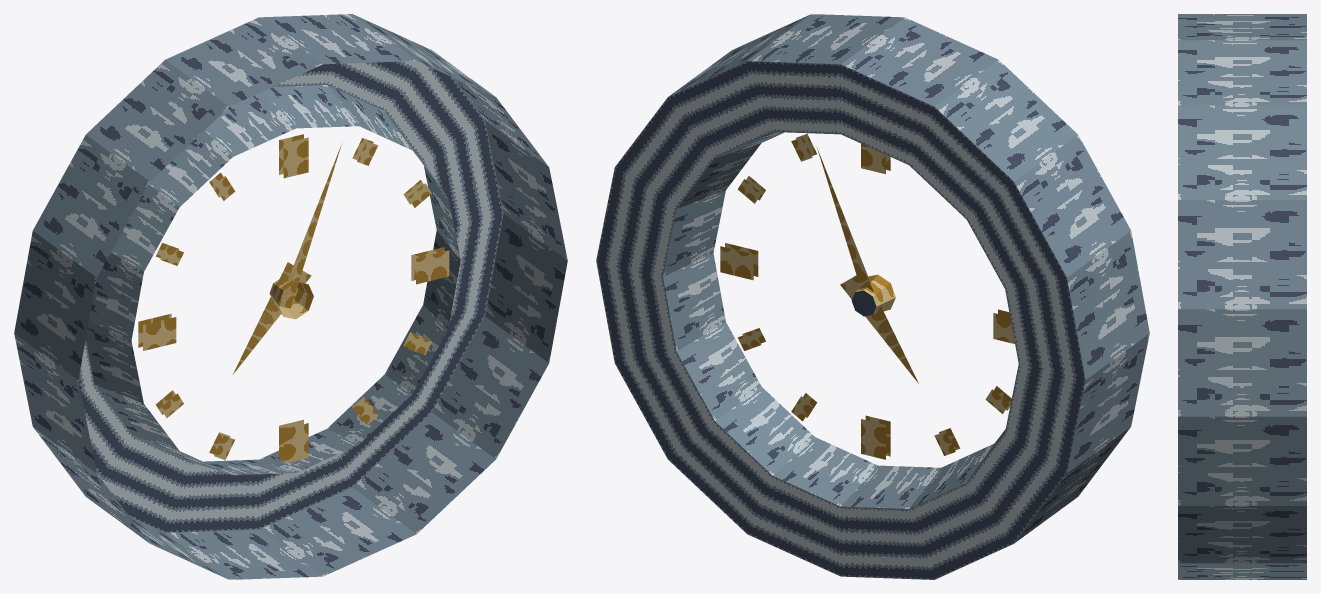
The model's file is ORN-10_Reloj_de_mareas.gltf.
3 views of the same model, side by side, from view 1: azimuth 30°, elevation 25°; view 2: azimuth 150°, elevation 25°; view 3: azimuth 270°, elevation 25° (orthographic).
Visible parts, largest first — view 1: ORN-10_Reloj_de_mareas-convcol; view 2: ORN-10_Reloj_de_mareas-convcol; view 3: ORN-10_Reloj_de_mareas-convcol.
Part boxes in pixels (x1,y1,x2,y2): ORN-10_Reloj_de_mareas-convcol: (14,14,567,579); ORN-10_Reloj_de_mareas-convcol: (596,14,1149,579); ORN-10_Reloj_de_mareas-convcol: (1178,14,1306,579).
Size of the model in its own units: 1.1 by 1.1 by 0.25.
1 material, 1 textured.
